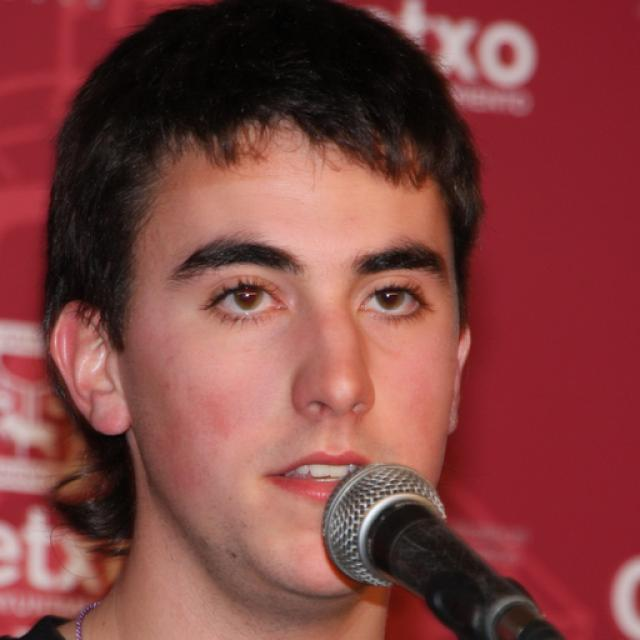surprise: (119, 99, 462, 602)
